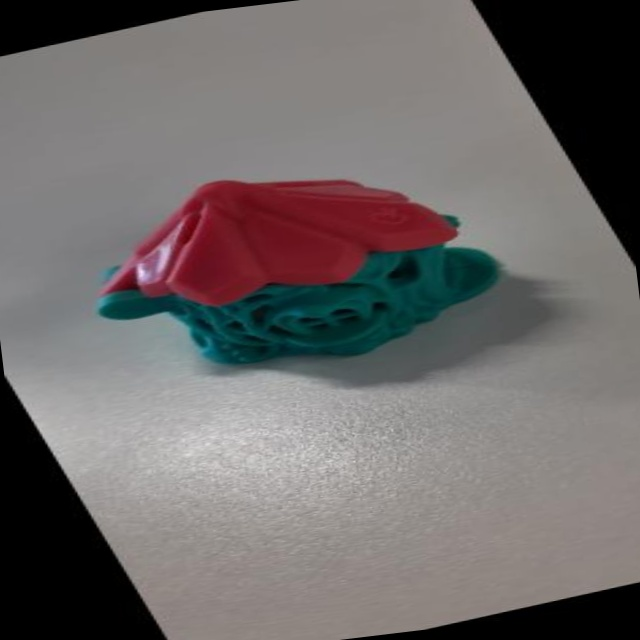House: (12, 108, 555, 419)
